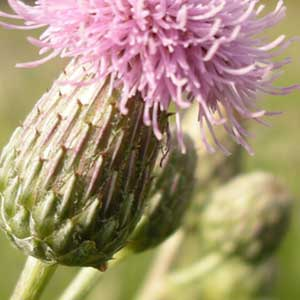thistle: (3, 1, 282, 262)
